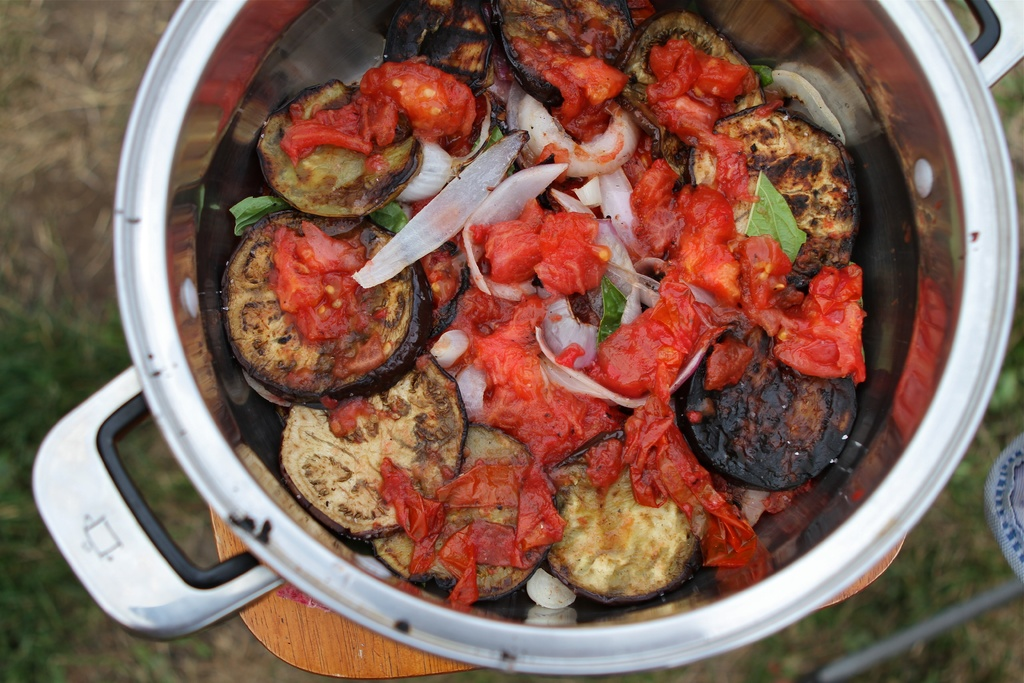Tomato: (587, 185, 792, 410), (448, 300, 618, 478), (654, 41, 764, 151), (477, 199, 608, 288), (275, 221, 368, 338), (776, 263, 865, 380), (373, 53, 470, 130)
